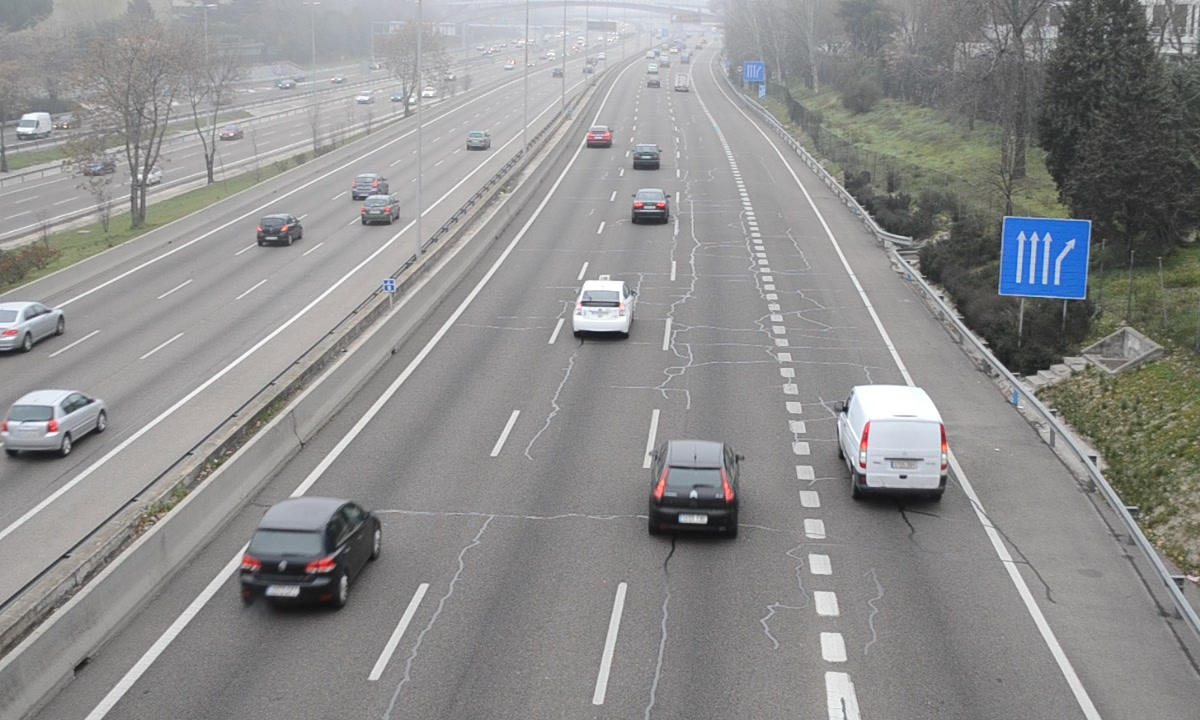car: (241, 497, 380, 606), (649, 442, 740, 534), (573, 279, 635, 334), (631, 187, 671, 225), (631, 141, 662, 173), (584, 124, 614, 148)
van: (840, 386, 946, 499)
